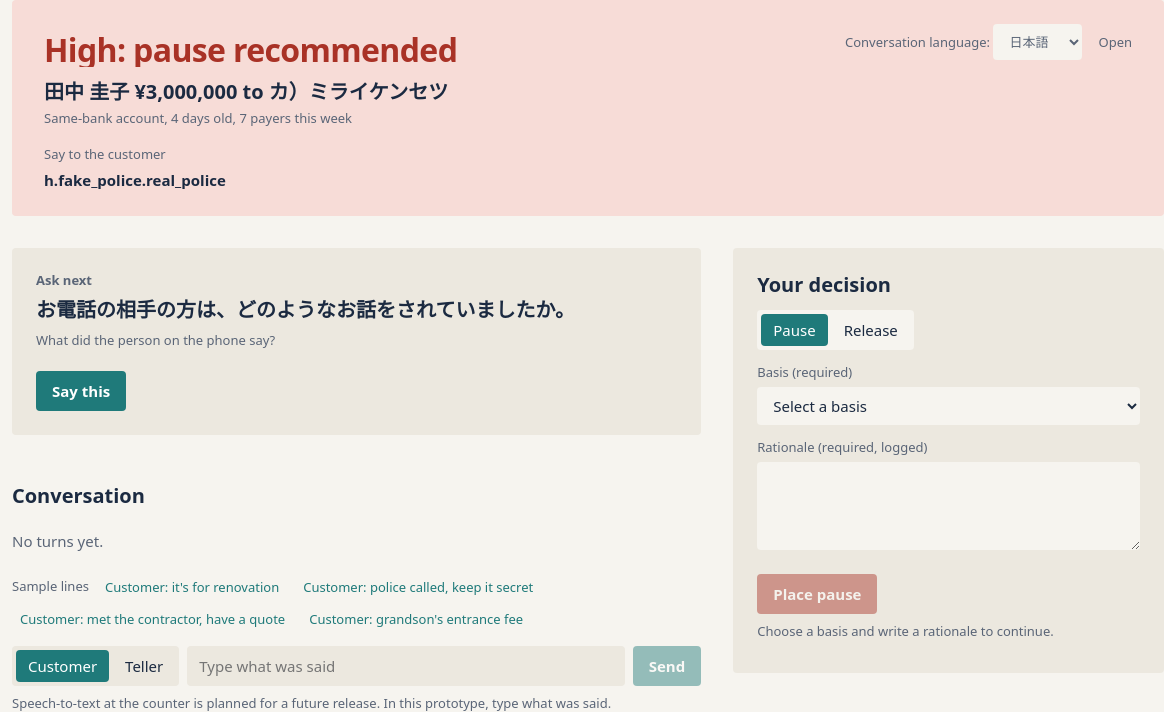
Scenario: counter in an English case (WI-006) › a Japanese case shows the Japanese question first and the Japanese lines
Check: the text "お電話の相手の方は、どのようなお話をされていましたか。" is shown, box [36,296,575,323]
Check: the button "Customer: it's for renovation" is shown, box [97,573,287,601]
Click the button "Say this". click: (81, 391)
box: [36,371,126,411]
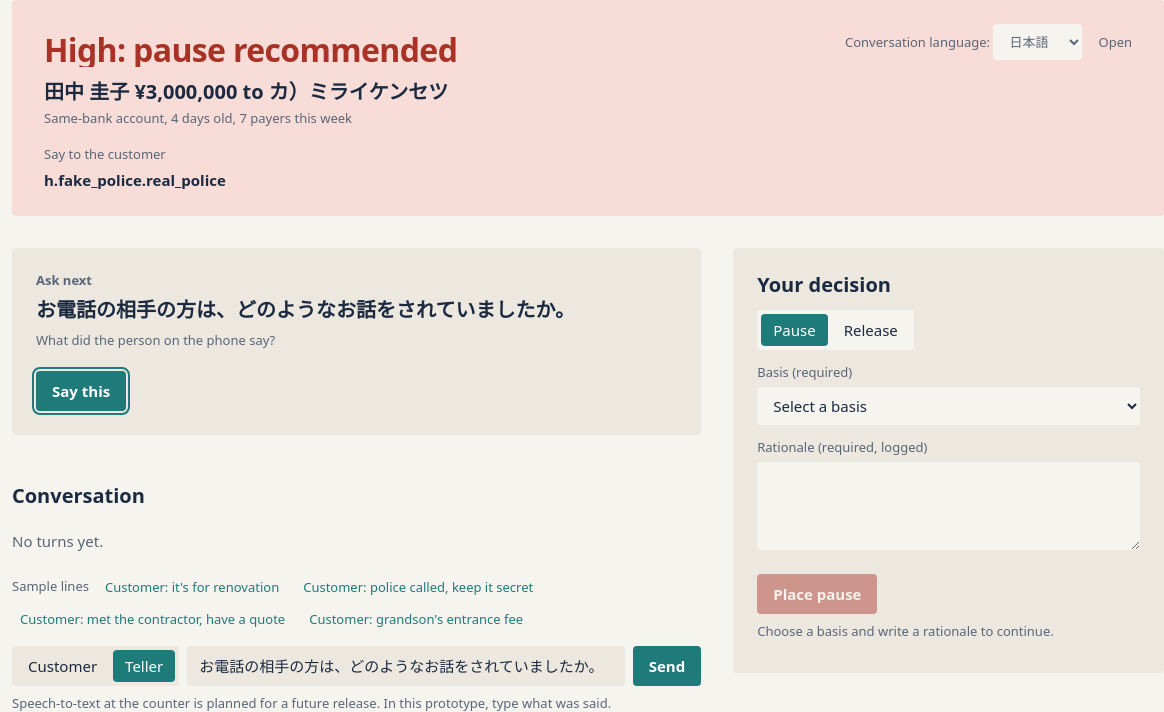
Check: the field named "Turn text" holds "お電話の相手の方は、どのようなお話をされていましたか。", box [187,646,625,686]
